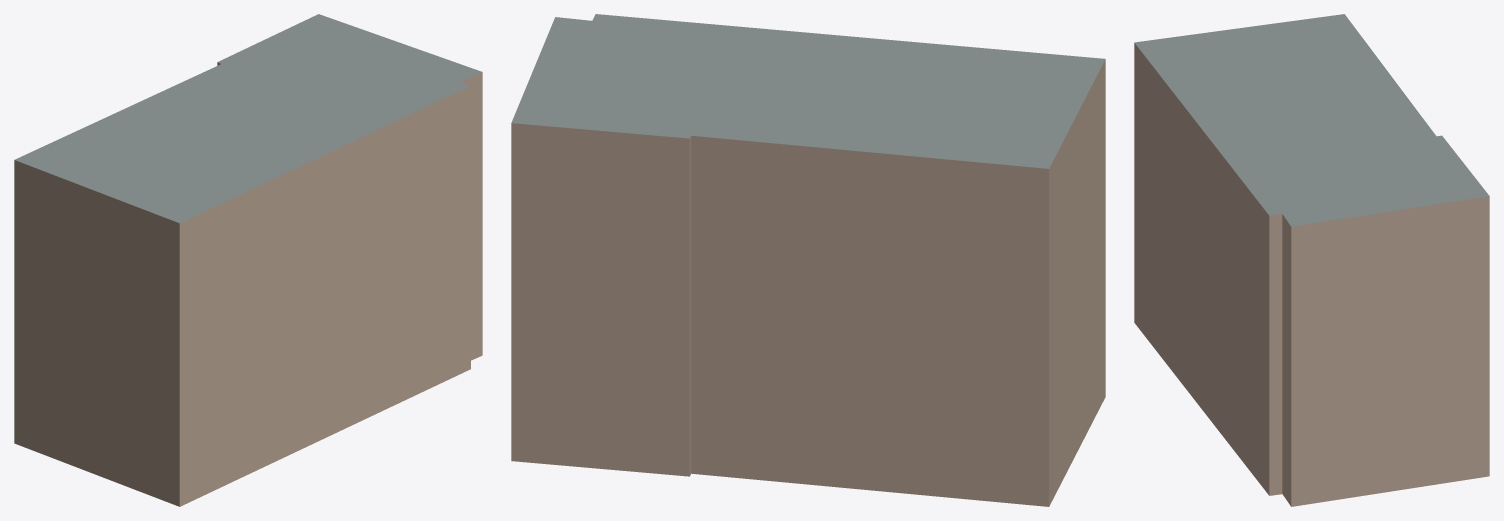
The model's file is context-1--2.gltf.
3 renders of one model, left to right at view 1: azimuth 30°, elevation 25°; view 2: azimuth 150°, elevation 25°; view 3: azimuth 270°, elevation 25°, orthographic. The views are drawn at different scales.
Visible parts, largest first — view 1: context-1--2; view 2: context-1--2; view 3: context-1--2.
Part boxes in pixels (bbox=[...]): context-1--2: bbox=[14, 14, 482, 506]; context-1--2: bbox=[511, 14, 1105, 506]; context-1--2: bbox=[1134, 14, 1489, 506].
Bounding box in the file's own units: 96.81 × 59.44 × 68.33.
